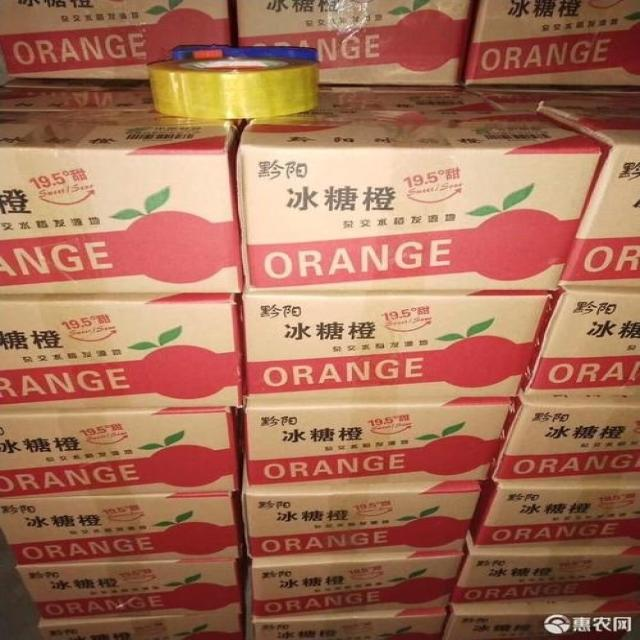box: (237, 85, 605, 292), (0, 111, 249, 294), (241, 283, 550, 404), (0, 292, 244, 411), (240, 453, 482, 559), (511, 86, 639, 286), (240, 398, 512, 486), (0, 404, 242, 498), (0, 490, 247, 566), (1, 0, 232, 80), (244, 551, 465, 621), (462, 0, 639, 86), (448, 532, 639, 607), (15, 559, 247, 620), (520, 286, 639, 397), (487, 395, 639, 481), (469, 480, 639, 548), (440, 599, 638, 639), (243, 608, 447, 639), (38, 615, 244, 639), (3, 88, 156, 112), (3, 77, 150, 89)
